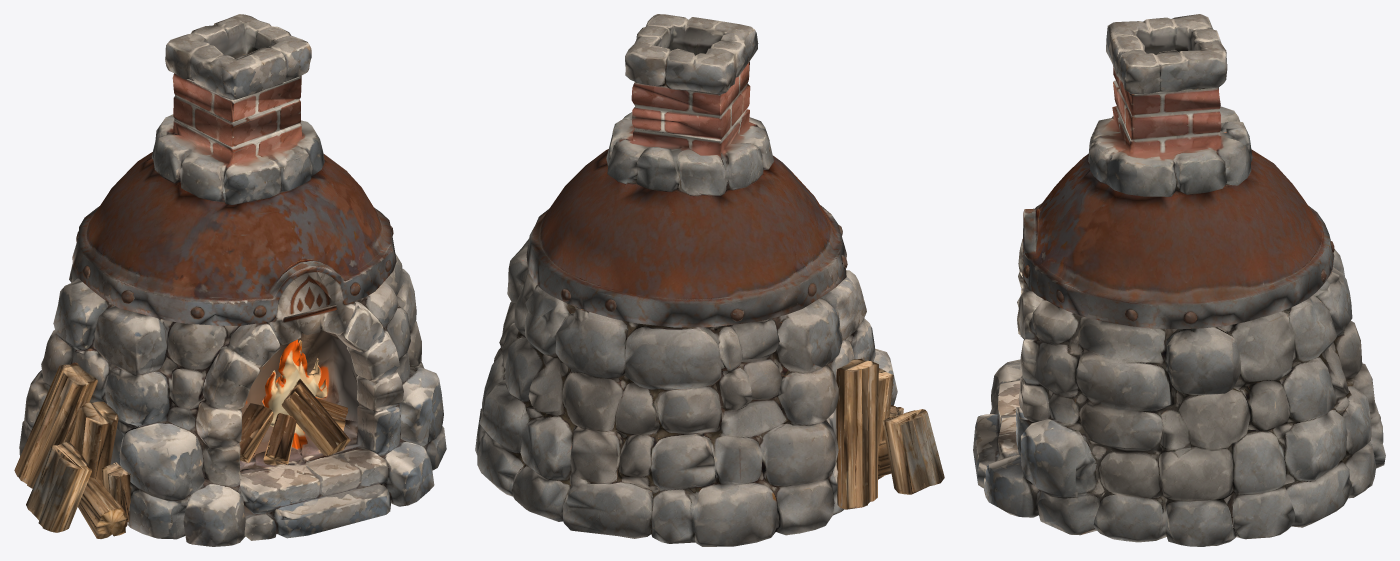
Rendered from furnace_t2.5.glb.
The picture shows the model from 3 angles, left to right: view 1: azimuth 30°, elevation 25°; view 2: azimuth 150°, elevation 25°; view 3: azimuth 270°, elevation 25°; orthographic projection.
Parts seen in each view (by area): view 1: Mesh_0; view 2: Mesh_0; view 3: Mesh_0.
Boxes of the visible parts, left/top/right/bottom form: Mesh_0: left=14, top=14, right=446, bottom=546; Mesh_0: left=475, top=14, right=944, bottom=546; Mesh_0: left=973, top=14, right=1385, bottom=546.
Bounding box in the file's own units: 1.82 × 1.8 × 1.6.
1 material, 1 textured.
